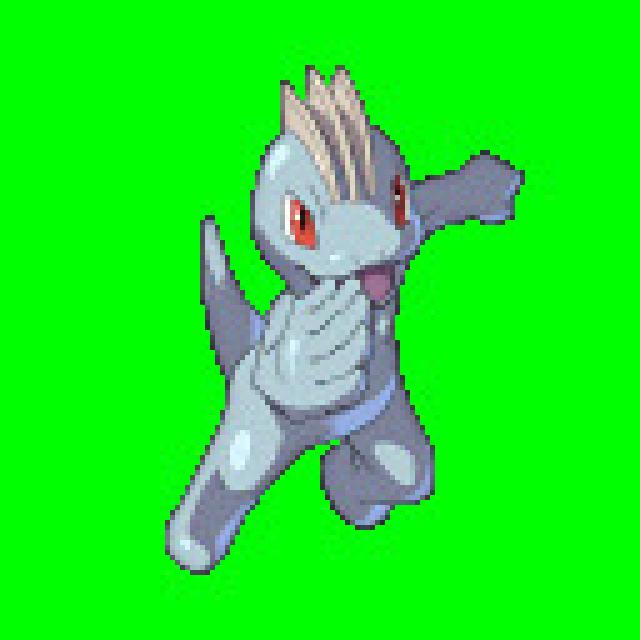Machop: (187, 61, 520, 529)
